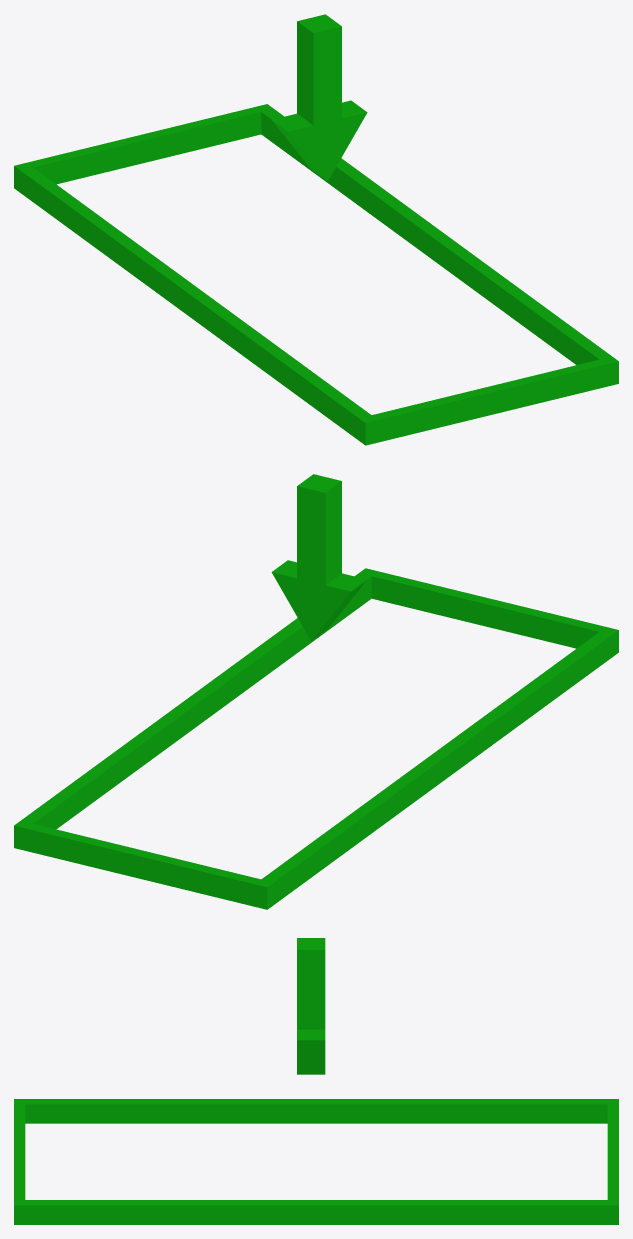
The model's file is Arrow.glb.
3 views of the same model, one above another, from view 1: azimuth 30°, elevation 25°; view 2: azimuth 150°, elevation 25°; view 3: azimuth 270°, elevation 25° (orthographic). The views are drawn at different scales.
Visible parts, largest first — view 1: PLATFORM, ARROW; view 2: PLATFORM, ARROW; view 3: PLATFORM, ARROW.
Boxes of the visible parts, <box> form: PLATFORM: <box>14,104,618,445</box>; ARROW: <box>272,14,367,181</box>; PLATFORM: <box>14,568,618,909</box>; ARROW: <box>271,474,367,640</box>; PLATFORM: <box>14,1099,618,1224</box>; ARROW: <box>297,938,325,1074</box>.
Size of the model in its own units: 2 by 1.99 by 4.81.
